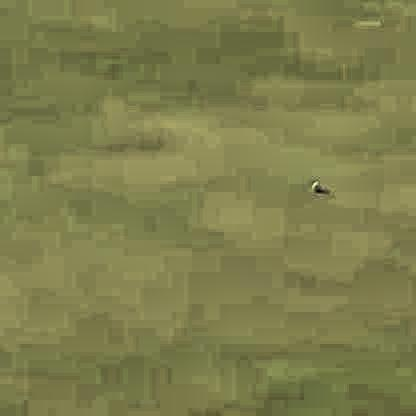golfball: (308, 177, 319, 188)
